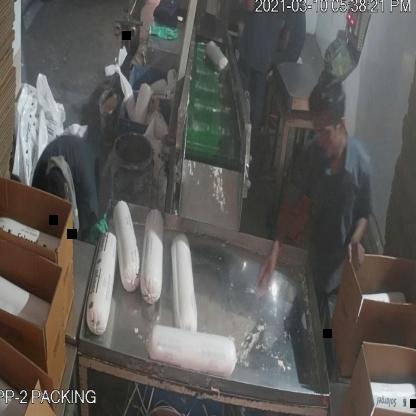no_glove: (259, 169, 300, 303), (344, 206, 370, 287)
